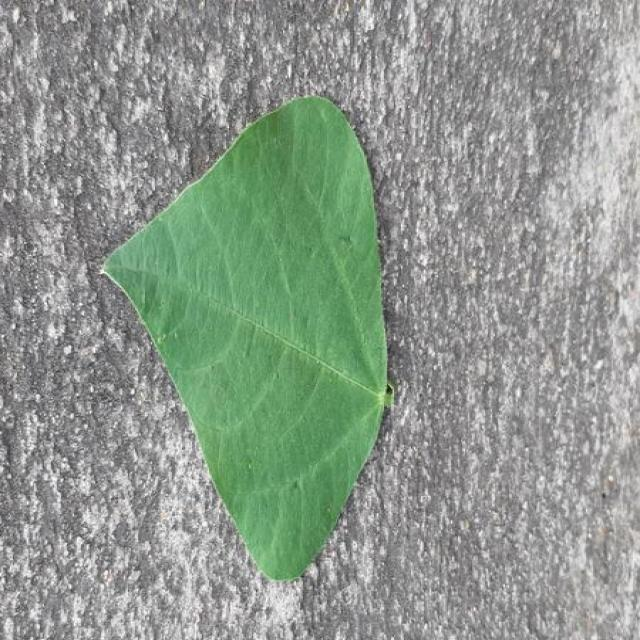beans: (103, 96, 388, 579)
